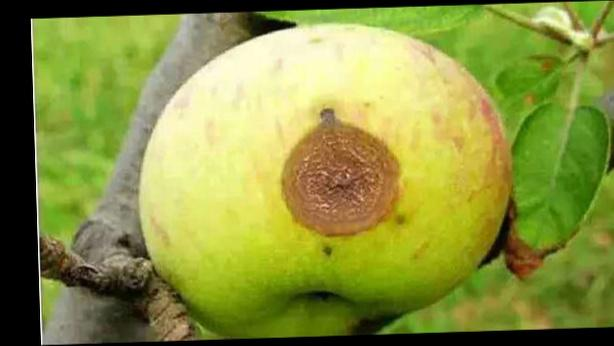rotten apple: (135, 22, 512, 334)
